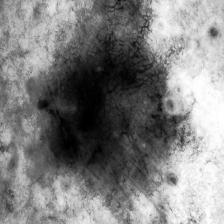Benign Marking or Mole: (34, 32, 200, 176)
